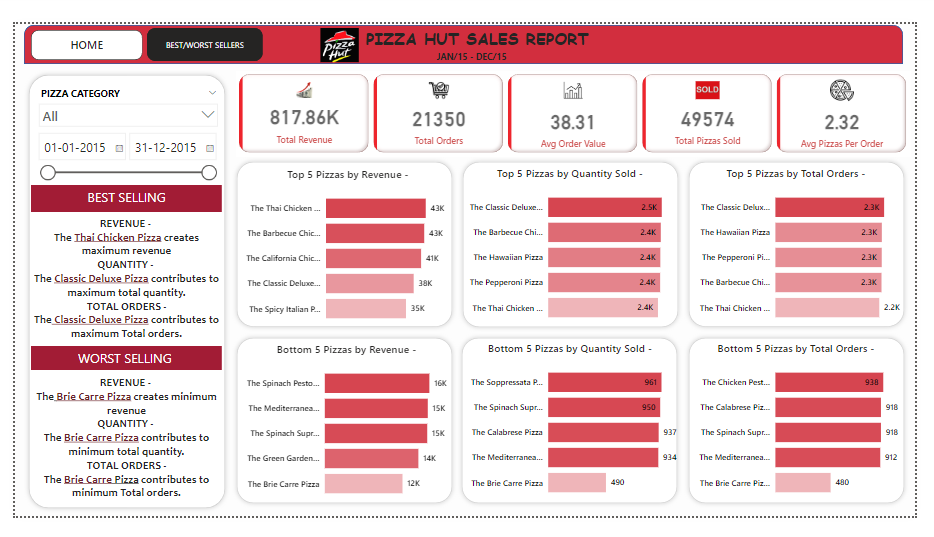

The page's visual inventory and layout, read from the dashboard file:
{"tool":"powerbi","page":{"name":"BEST/WORST SELLERS","canvas":[1500,820],"ordinal":1},"visuals":[{"type":"cardVisual","fields":{"Data":["pizza_sales.Total Revenue","pizza_sales.Total Orders","pizza_sales.Avg Order Value","pizza_sales.Total Pizzas Sold","pizza_sales.Avg Pizzas Per Order"]},"box":[368.3,78.3,1125,143.3],"z":0},{"type":"shape","box":[15,1.7,1465,65],"z":1000},{"type":"textbox","box":[571.7,1.7,396.7,50],"z":2000},{"type":"textbox","box":[690,38.3,141.7,31.7],"z":3000},{"type":"image","box":[500,1.7,81.7,66.7],"z":4000},{"type":"shape","box":[361.7,221.7,375,291],"z":5000},{"type":"shape","box":[1115,221.7,375,291],"z":6000},{"type":"shape","box":[361.7,515,375,291.7],"z":7000},{"type":"shape","box":[15,76.7,343.3,738.3],"z":8000},{"type":"shape","box":[738.3,221.7,375,291.7],"z":9000},{"type":"shape","box":[1115,515,375,291.7],"z":10000},{"type":"textbox","box":[26.7,268.3,318.3,45],"z":11000},{"type":"textbox","box":[26.7,315,318.3,258.3],"z":12000},{"type":"textbox","box":[26.7,536.7,318.3,40],"z":13000},{"type":"textbox","box":[26.7,563.3,318.3,245],"z":14000},{"type":"slicer","fields":{"Values":["pizza_sales.pizza_category"]},"box":[30,100,318.3,90],"z":15000},{"type":"slicer","fields":{"Values":["pizza_sales.order_date"]},"box":[26.7,171.7,318.3,100],"z":16000},{"type":"shape","box":[736.7,515,375,291.7],"z":17000},{"type":"barChart","title":"Top 5 Pizzas by Revenue -","fields":{"Category":["pizza_sales.pizza_name"],"Y":["pizza_sales.Total Revenue"]},"box":[368.3,238.3,373.3,275],"z":18000},{"type":"barChart","title":"Bottom 5 Pizzas by Revenue -","fields":{"Category":["pizza_sales.pizza_name"],"Y":["pizza_sales.Total Revenue"]},"box":[368.3,530,368.3,275],"z":19000},{"type":"barChart","title":"Top 5 Pizzas by Quantity Sold -","fields":{"Category":["pizza_sales.pizza_name"],"Y":["pizza_sales.Total Pizzas Sold"]},"box":[741.7,236.7,366.7,275],"z":20000},{"type":"barChart","title":"Bottom 5 Pizzas by Quantity Sold -","fields":{"Category":["pizza_sales.pizza_name"],"Y":["pizza_sales.Total Pizzas Sold"]},"box":[741.7,528.3,366.7,275],"z":21000},{"type":"barChart","title":"Top 5 Pizzas by Total Orders  -","fields":{"Category":["pizza_sales.pizza_name"],"Y":["pizza_sales.Total Orders"]},"box":[1123.3,236.7,356.7,275],"z":22000},{"type":"barChart","title":"Bottom 5 Pizzas by Total Orders  -","fields":{"Category":["pizza_sales.pizza_name"],"Y":["pizza_sales.Total Orders"]},"box":[1123.3,528.3,356.7,275],"z":23000},{"type":"pageNavigator","box":[26.7,10,186,50],"z":23001},{"type":"pageNavigator","box":[220,6.7,193.3,55],"z":23002}]}

Visuals, with their boxes on the page's 1500x820 design canvas (x1, y1, x2, y2). These are canvas units, not pixel positions in the 934x537 screenshot, which may show the page scaled, cropped or inside an application window:
cardVisual - pizza_sales.Total Revenue x pizza_sales.Total Orders: bbox=(368, 78, 1493, 222)
shape: bbox=(15, 2, 1480, 67)
textbox: bbox=(572, 2, 968, 52)
textbox: bbox=(690, 38, 832, 70)
image: bbox=(500, 2, 582, 68)
shape: bbox=(362, 222, 737, 513)
shape: bbox=(1115, 222, 1490, 513)
shape: bbox=(362, 515, 737, 807)
shape: bbox=(15, 77, 358, 815)
shape: bbox=(738, 222, 1113, 513)
shape: bbox=(1115, 515, 1490, 807)
textbox: bbox=(27, 268, 345, 313)
textbox: bbox=(27, 315, 345, 573)
textbox: bbox=(27, 537, 345, 577)
textbox: bbox=(27, 563, 345, 808)
slicer - pizza_sales.pizza_category: bbox=(30, 100, 348, 190)
slicer - pizza_sales.order_date: bbox=(27, 172, 345, 272)
shape: bbox=(737, 515, 1112, 807)
"Top 5 Pizzas by Revenue -" barChart: bbox=(368, 238, 742, 513)
"Bottom 5 Pizzas by Revenue -" barChart: bbox=(368, 530, 737, 805)
"Top 5 Pizzas by Quantity Sold -" barChart: bbox=(742, 237, 1108, 512)
"Bottom 5 Pizzas by Quantity Sold -" barChart: bbox=(742, 528, 1108, 803)
"Top 5 Pizzas by Total Orders  -" barChart: bbox=(1123, 237, 1480, 512)
"Bottom 5 Pizzas by Total Orders  -" barChart: bbox=(1123, 528, 1480, 803)
pageNavigator: bbox=(27, 10, 213, 60)
pageNavigator: bbox=(220, 7, 413, 62)
